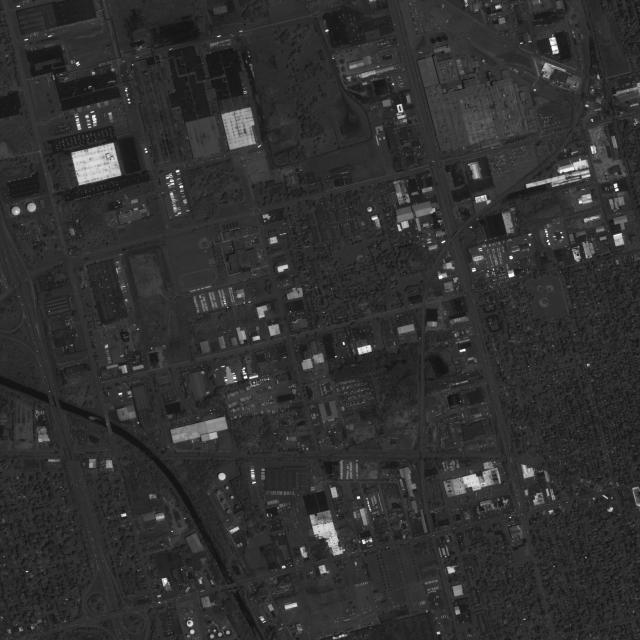storage-tank: (26, 203, 36, 212), (12, 207, 21, 216), (218, 473, 226, 481), (186, 620, 194, 627), (221, 499, 226, 504), (210, 635, 215, 639), (190, 630, 195, 634), (218, 632, 222, 637), (217, 490, 221, 495), (227, 509, 231, 514), (226, 631, 230, 635), (236, 505, 239, 509), (226, 486, 229, 490), (231, 496, 234, 499), (482, 60, 485, 63), (187, 635, 190, 637), (214, 629, 216, 632)
